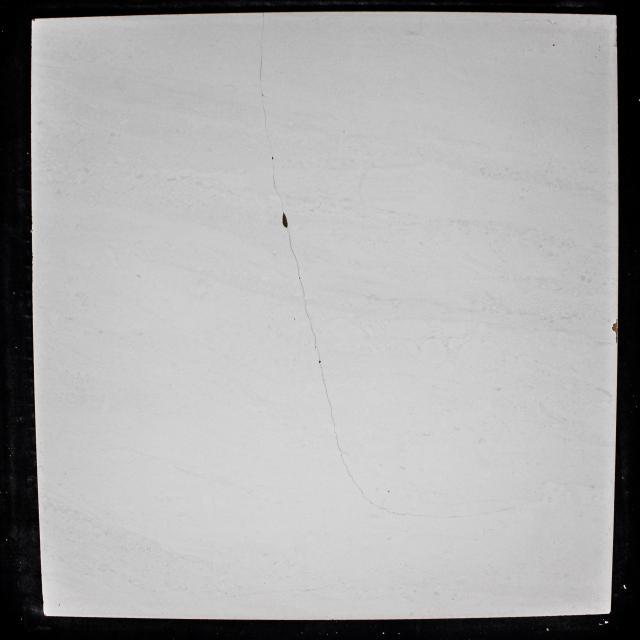edge-chipping: (612, 319, 618, 344), (31, 18, 36, 22)
hole: (282, 212, 288, 228), (261, 93, 265, 98), (271, 156, 274, 160), (318, 360, 322, 363), (552, 44, 556, 46)
line: (320, 365, 364, 497), (365, 497, 459, 518), (301, 281, 321, 359), (461, 506, 516, 518), (258, 12, 266, 92), (272, 163, 284, 211), (262, 100, 273, 152), (288, 231, 299, 278)
